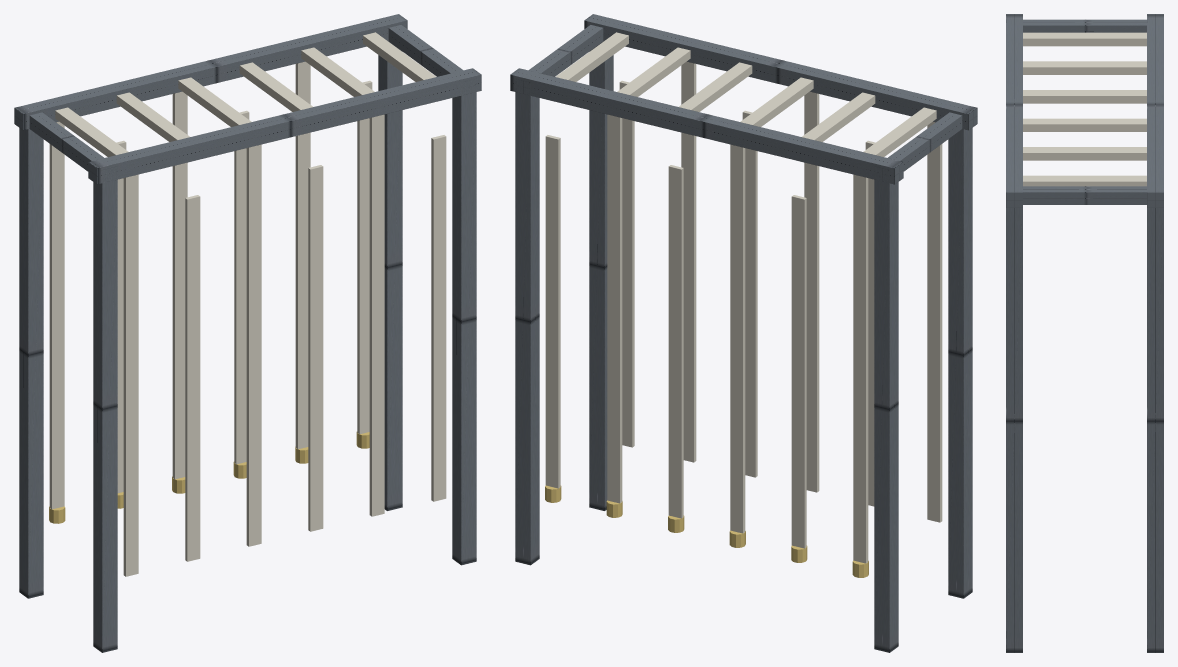
The model's file is fire-and-emergency-services-hose-drying-rack-87699cf6__29888.glb.
3 views of the same model, side by side, from view 1: azimuth 30°, elevation 25°; view 2: azimuth 150°, elevation 25°; view 3: azimuth 270°, elevation 25° (orthographic). The views are drawn at different scales.
Visible parts, largest first — view 1: hose-drying-rack; view 2: hose-drying-rack; view 3: hose-drying-rack.
Boxes of the visible parts, bbox=[...] form: hose-drying-rack: bbox=[14, 14, 481, 652]; hose-drying-rack: bbox=[510, 14, 977, 652]; hose-drying-rack: bbox=[1006, 14, 1163, 652].
Bounding box in the file's own units: 3 × 3.62 × 1.12.
3 materials, 1 textured.
